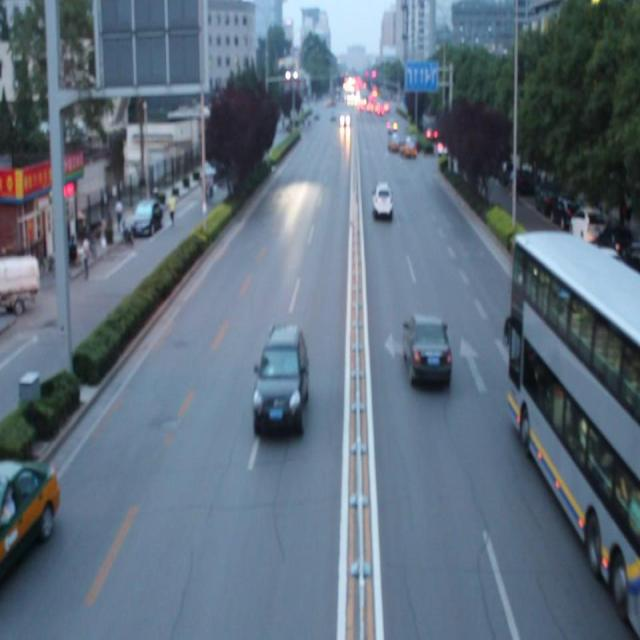car: (1, 454, 61, 576), (253, 322, 310, 436), (400, 310, 452, 390), (370, 179, 394, 223)
van: (506, 226, 640, 624)
